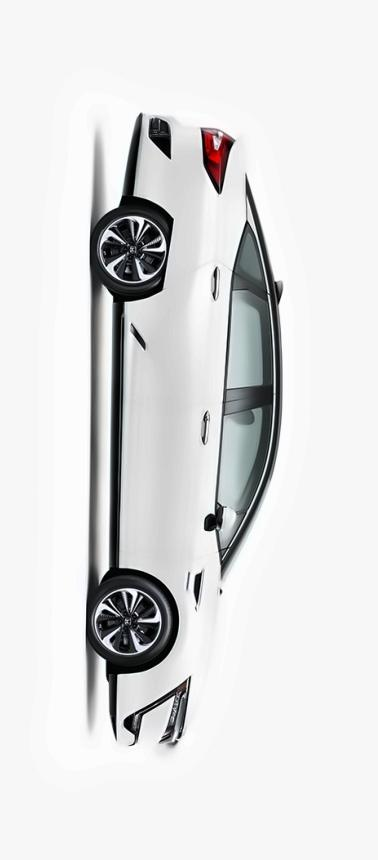Car hood: (196, 572, 229, 722)
Driver-s door - -F-R-: (77, 383, 296, 569)
Fender - -F-R-: (88, 533, 215, 682)
Fender - -R-R-: (103, 169, 253, 309)
Front bumper: (96, 666, 159, 758)
Headlight - -R-: (162, 675, 191, 750)
Passenger-s door - -R-R-: (81, 265, 298, 390)
Rear bumper: (120, 112, 206, 221)
Rear light - -R-: (197, 122, 237, 196)
Side bumper - -R-: (86, 289, 154, 578)
Side mirror - -R-: (206, 503, 239, 562)
